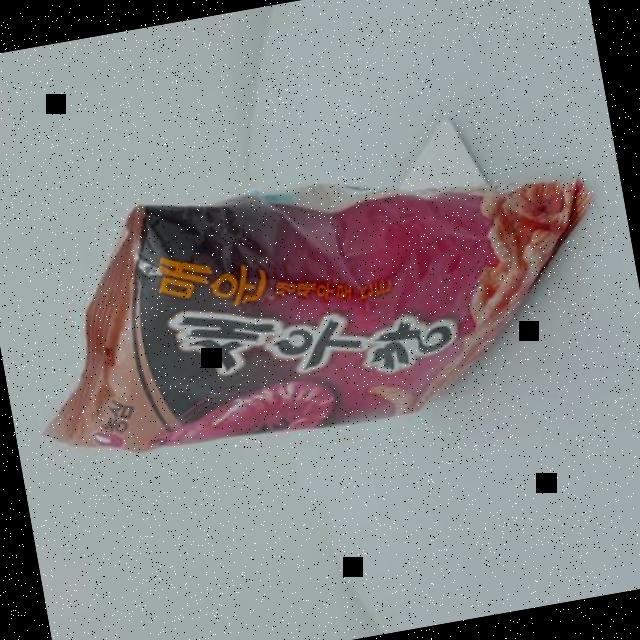snack_bag: (0, 113, 635, 494)
